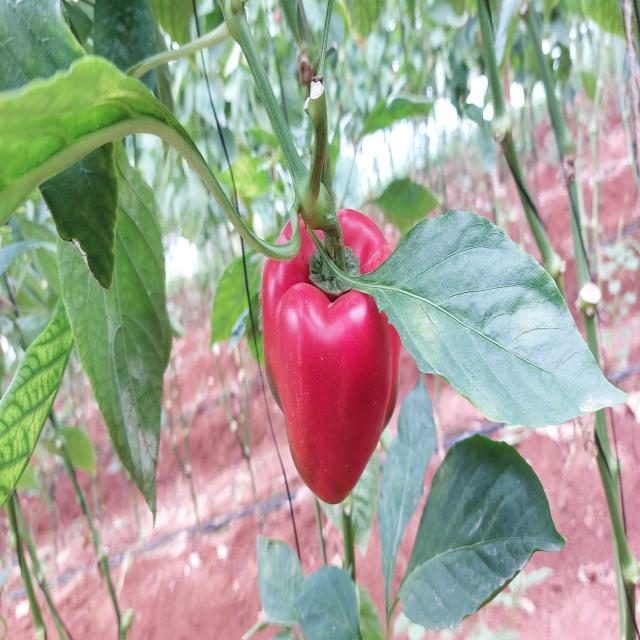Red-Ready-to-Harvest: (260, 209, 412, 514)
